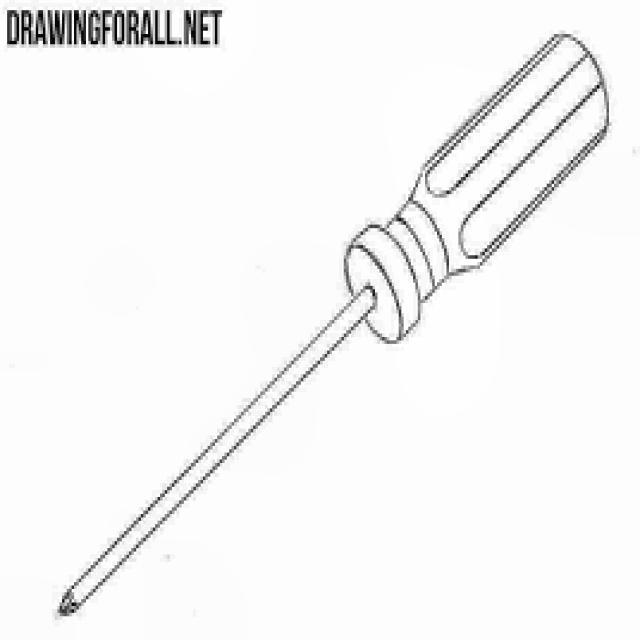screwdriver: (59, 32, 611, 614)
